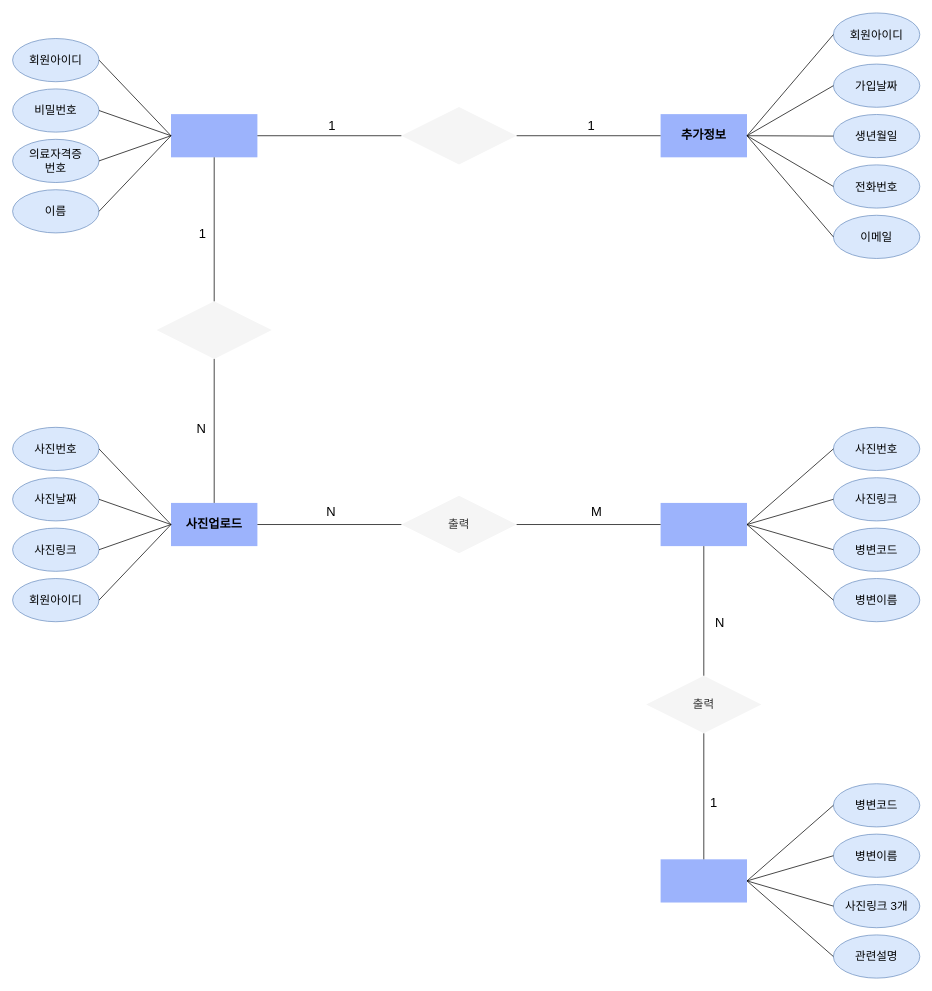
This 932x991 diagram has some shape labels left out. Each missing label, with the box of its shape:
결과: (660, 503, 747, 546)
업데이트: (401, 107, 516, 164)
유사병변: (660, 859, 747, 902)
작성: (156, 301, 271, 359)
회원: (171, 114, 257, 157)
